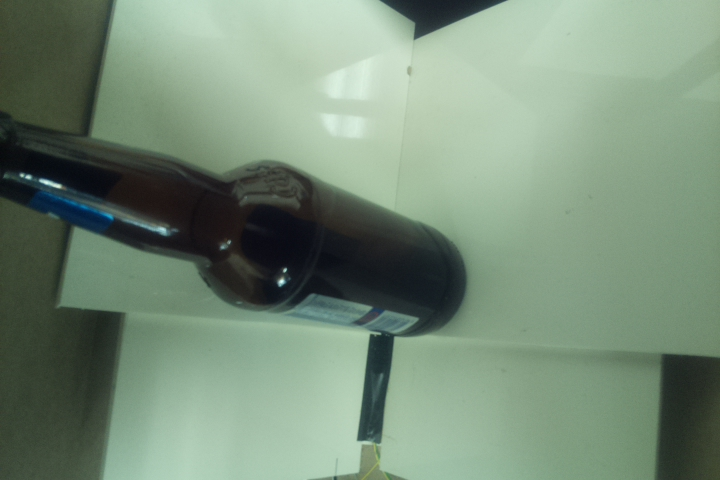makju: (1, 108, 467, 340)
